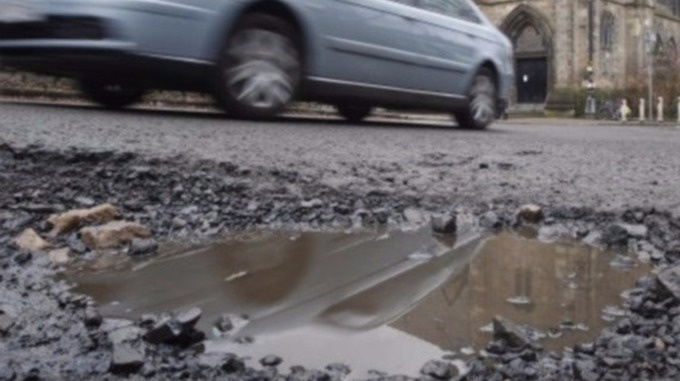pothole: (93, 146, 680, 381)
